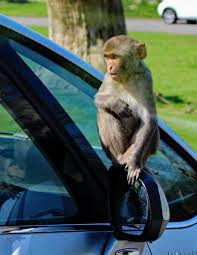monkey: (63, 24, 168, 164)
